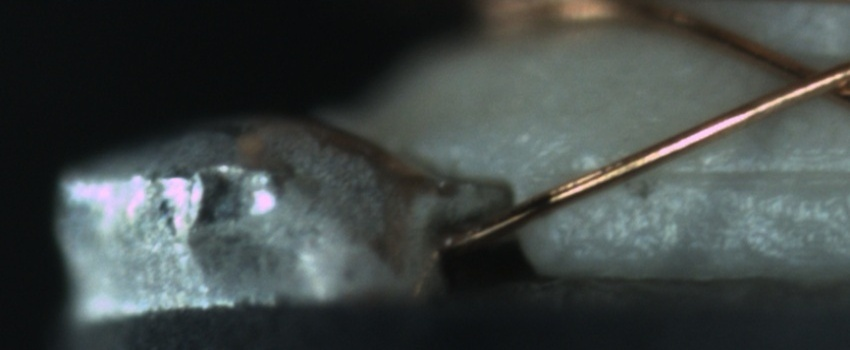CL: (759, 47, 847, 109)
DL: (614, 139, 846, 208)
